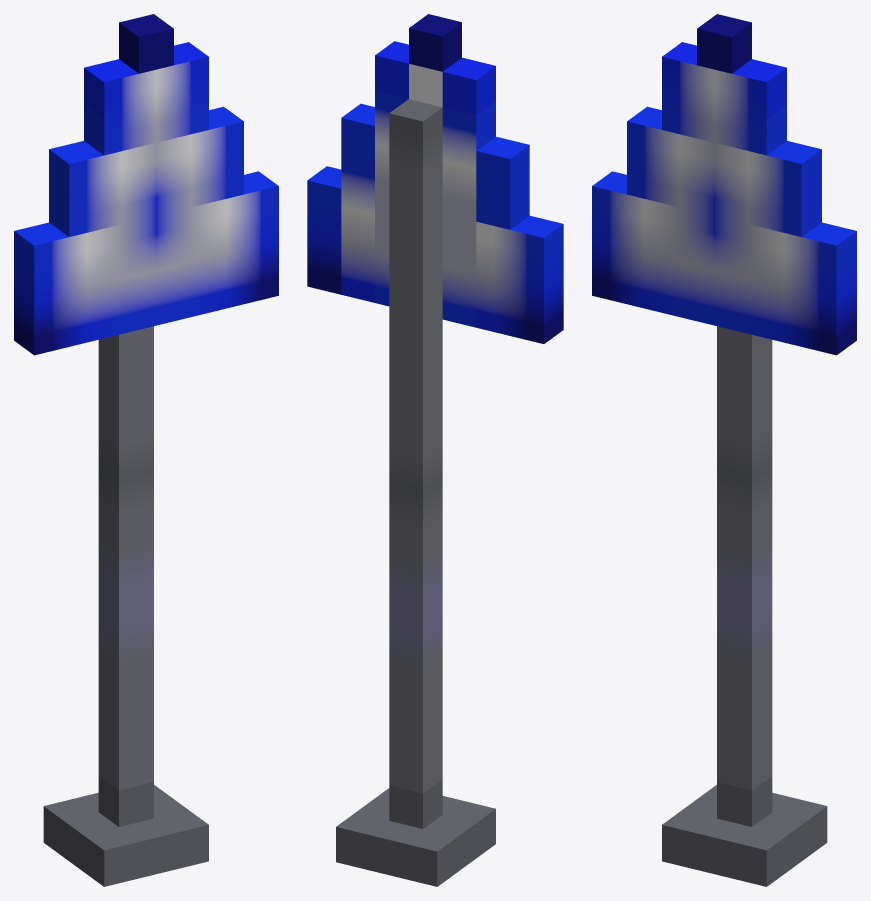
Rendered from StreetSign.fbx.
3 views of the same model, side by side, from view 1: azimuth 30°, elevation 25°; view 2: azimuth 150°, elevation 25°; view 3: azimuth 330°, elevation 25° (orthographic). The views are drawn at different scales.
Visible parts, largest first — view 1: StreetSign; view 2: StreetSign; view 3: StreetSign.
Part boxes in pixels (box(x1,y1,x2,y2)): StreetSign: box(14, 14, 278, 886); StreetSign: box(307, 14, 563, 886); StreetSign: box(592, 14, 856, 886).
Size of the model in its own units: 70 by 230 by 30.
1 material, 1 textured.
